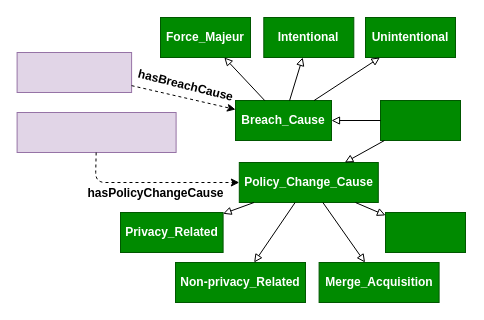
Some shapes in this 484 by 320 pixel diagram are drawn without their labels. The shapes that lost their labels are listed below. From the top down, each one's centre as x and y in pixels, then its label:
At (74,72): "Breach_Activity".
At (96,132): "Policy_Change_Activity".
At (420,120): "Cause".
At (425,232): "Other".
